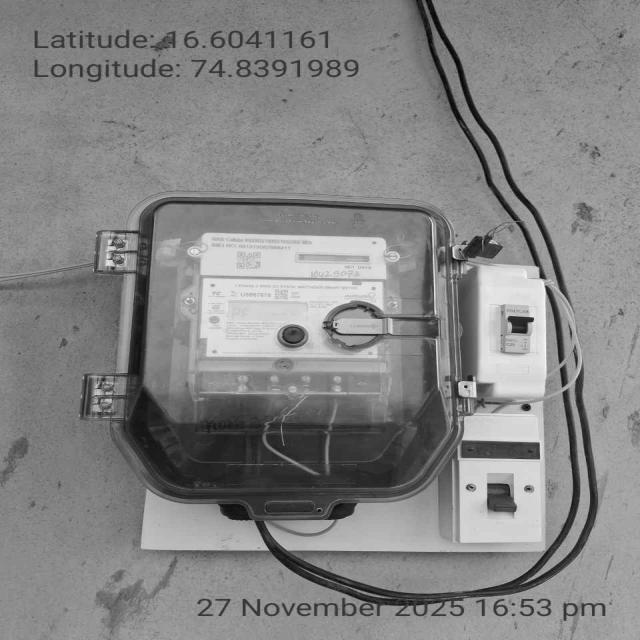meter: (200, 230, 397, 361)
